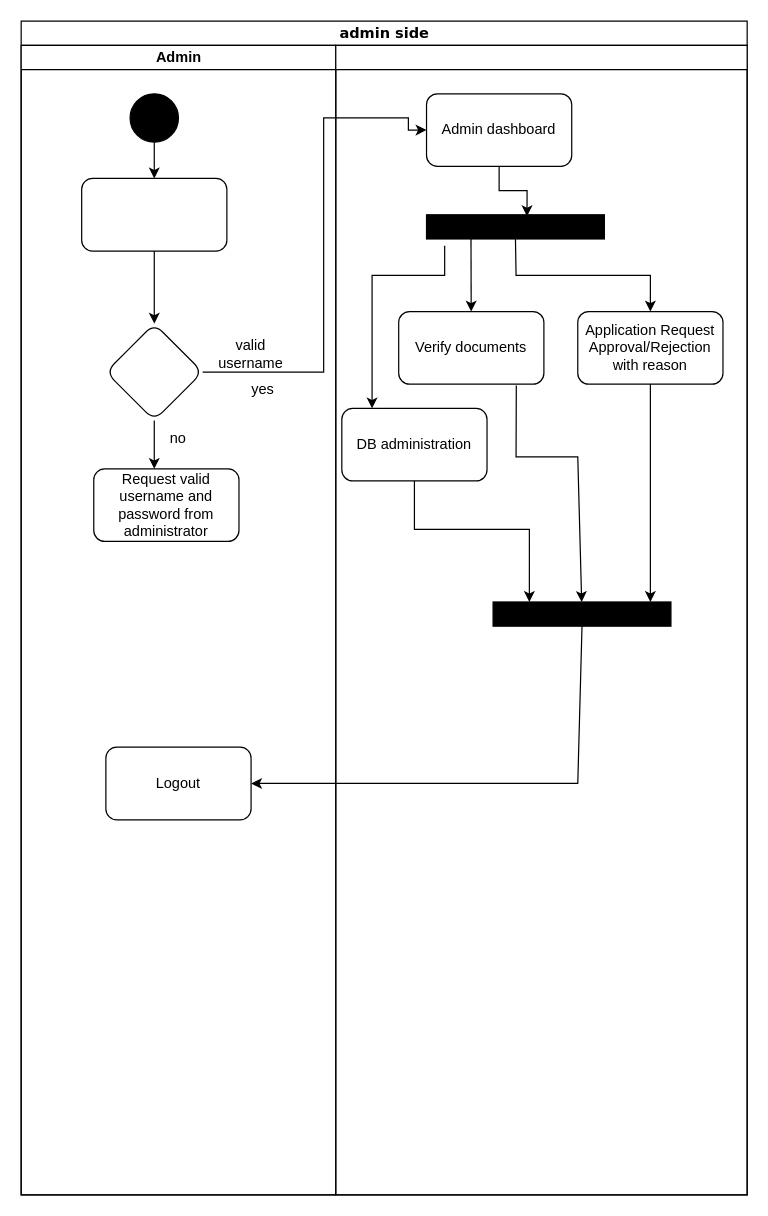
Some shapes in this 768 by 1216 pixel diagram are drawn without their labels. Here are the shapes that lost their labels. From the top down, the box of each, then its label:
(80, 177, 227, 251): Login page
(335, 44, 747, 1195): System
